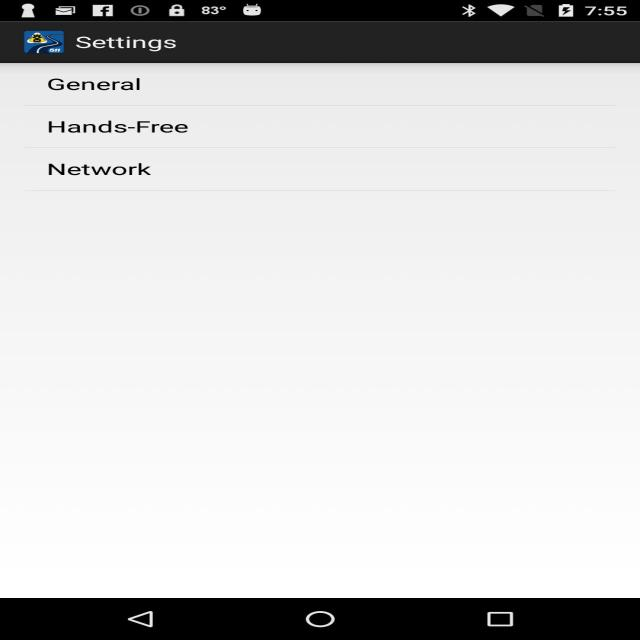image: (2, 26, 77, 58)
text: (20, 114, 264, 204), (32, 73, 248, 105), (67, 34, 194, 55)
